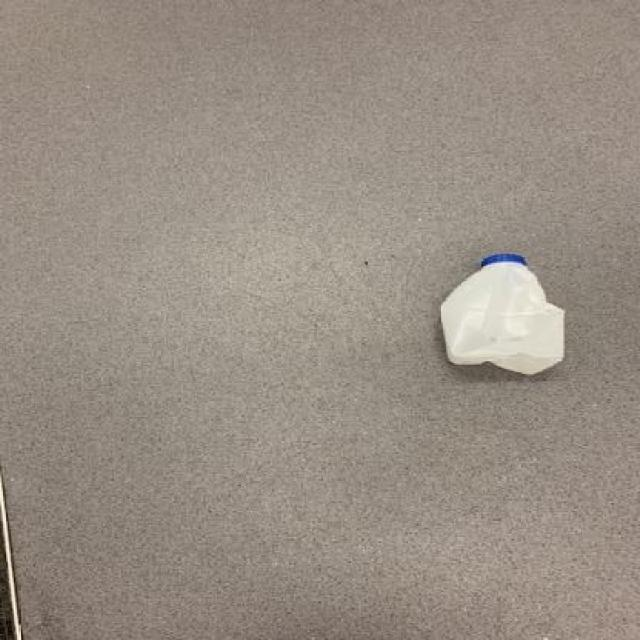trash: (433, 250, 578, 382)
